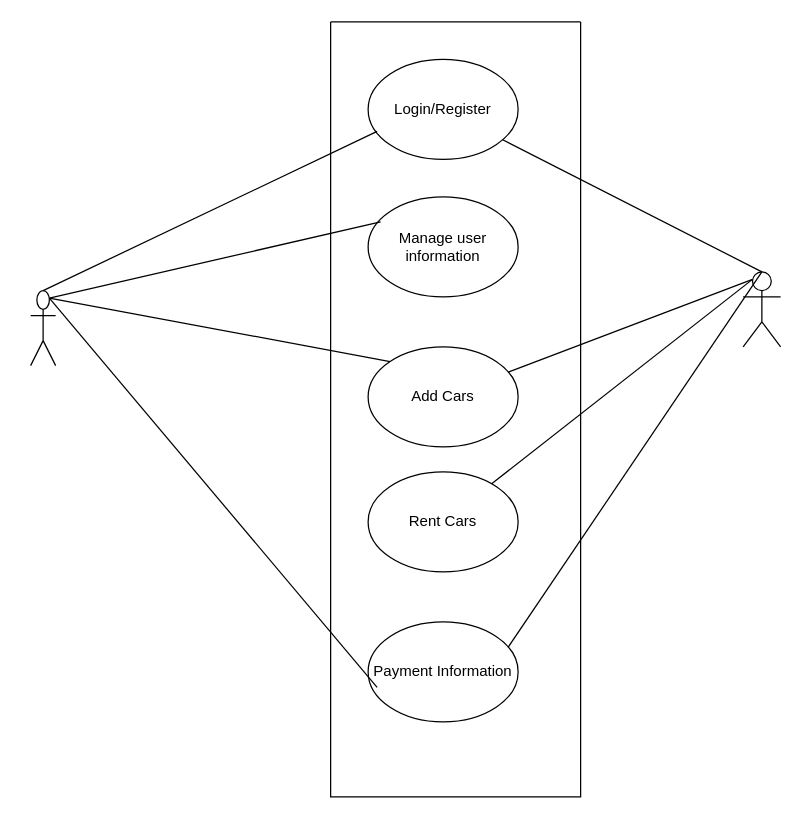
Some shapes in this 803 by 819 pixel diagram are drawn without their labels. The shapes that lost their labels are listed below. From the top down, each one's box as (x1, y1, x2, y2) in pixels, then its label:
(29, 289, 56, 366): Admin
(742, 271, 781, 347): User
